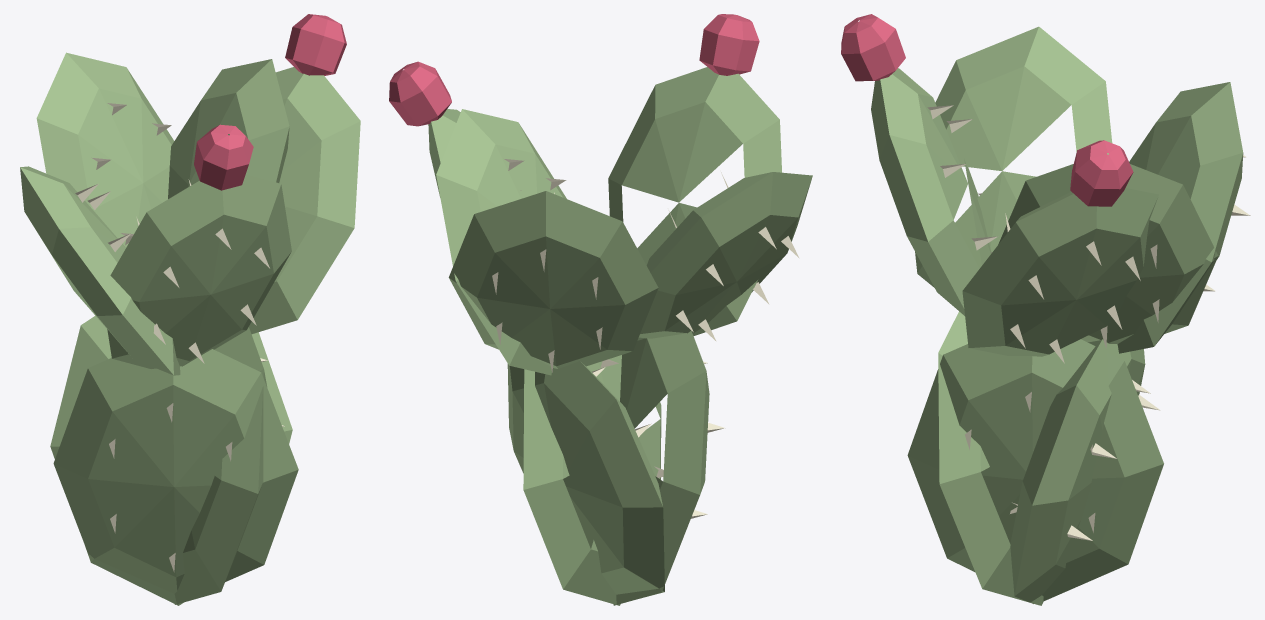
Rendered from cactus-pear-a.glb.
3 views of the same model, side by side, from view 1: azimuth 30°, elevation 25°; view 2: azimuth 150°, elevation 25°; view 3: azimuth 270°, elevation 25° (orthographic). The views are drawn at different scales.
Visible parts, largest first — view 1: cactus-pear-a; view 2: cactus-pear-a; view 3: cactus-pear-a.
Boxes of the visible parts, box(x1,y1,x2,y2) form: cactus-pear-a: box(20, 14, 360, 605); cactus-pear-a: box(389, 14, 812, 605); cactus-pear-a: box(841, 14, 1250, 605).
Size of the model in its own units: 0.3637 by 0.5277 by 0.3439.
